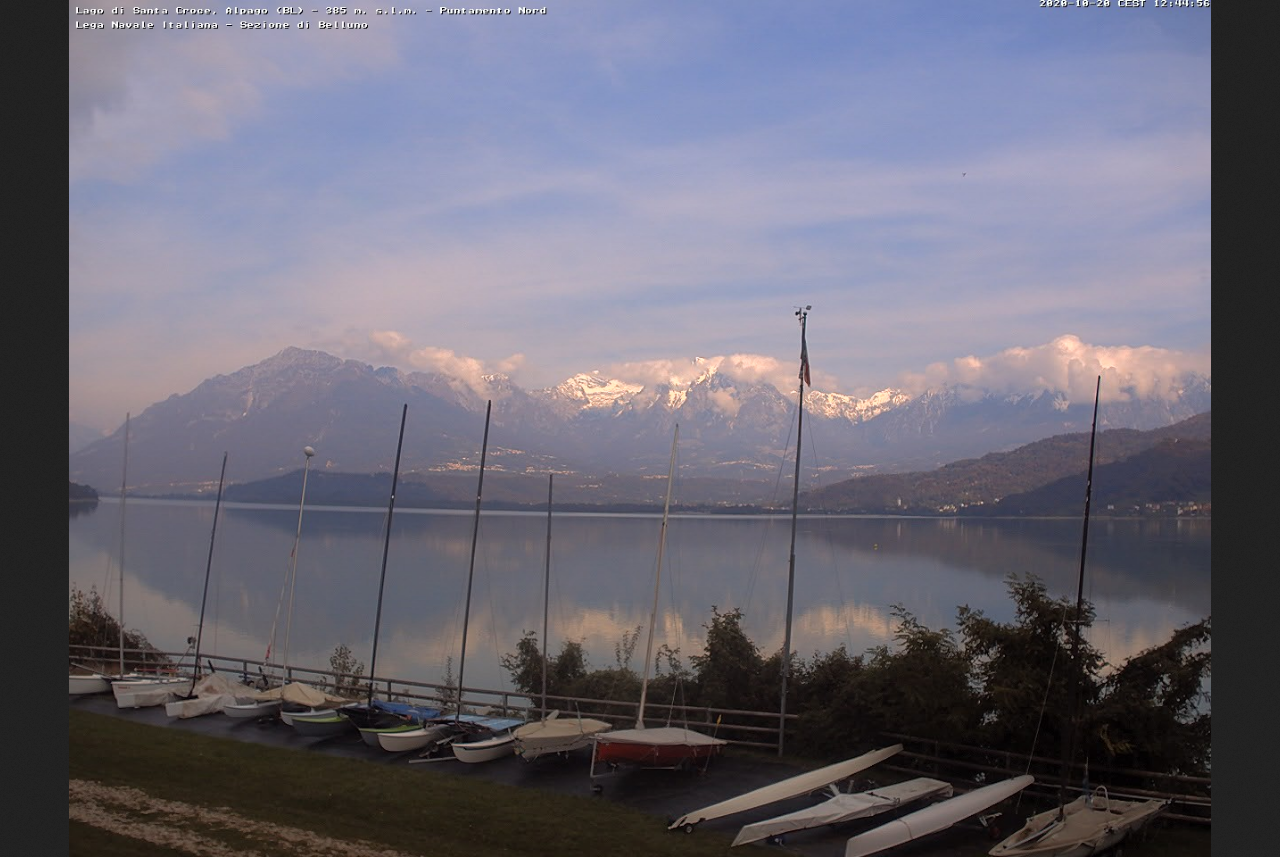yes: (798, 315, 812, 387)
